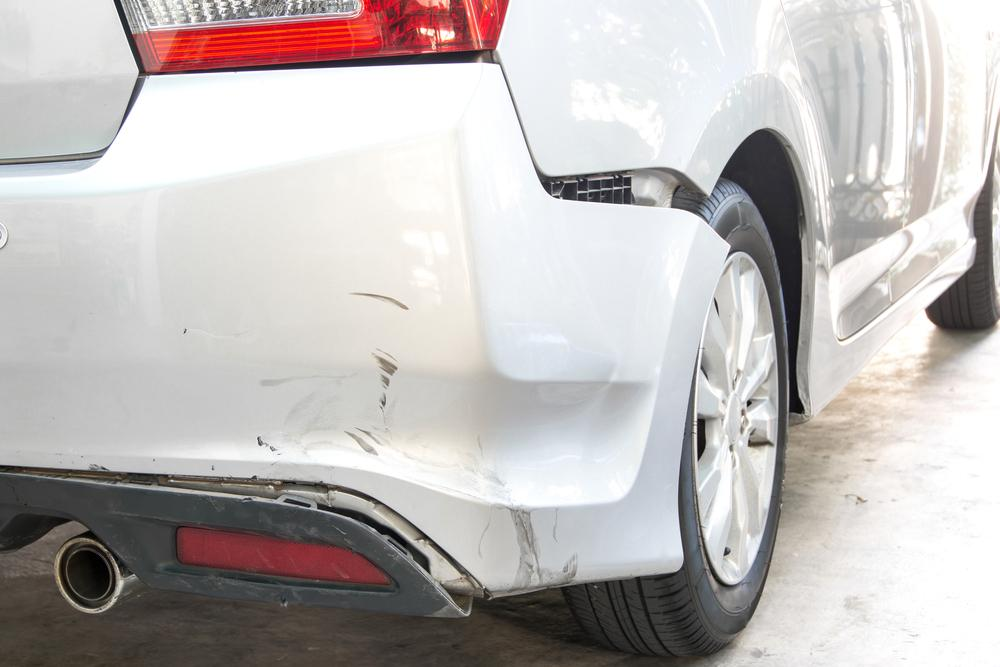scratch: (245, 280, 588, 597)
